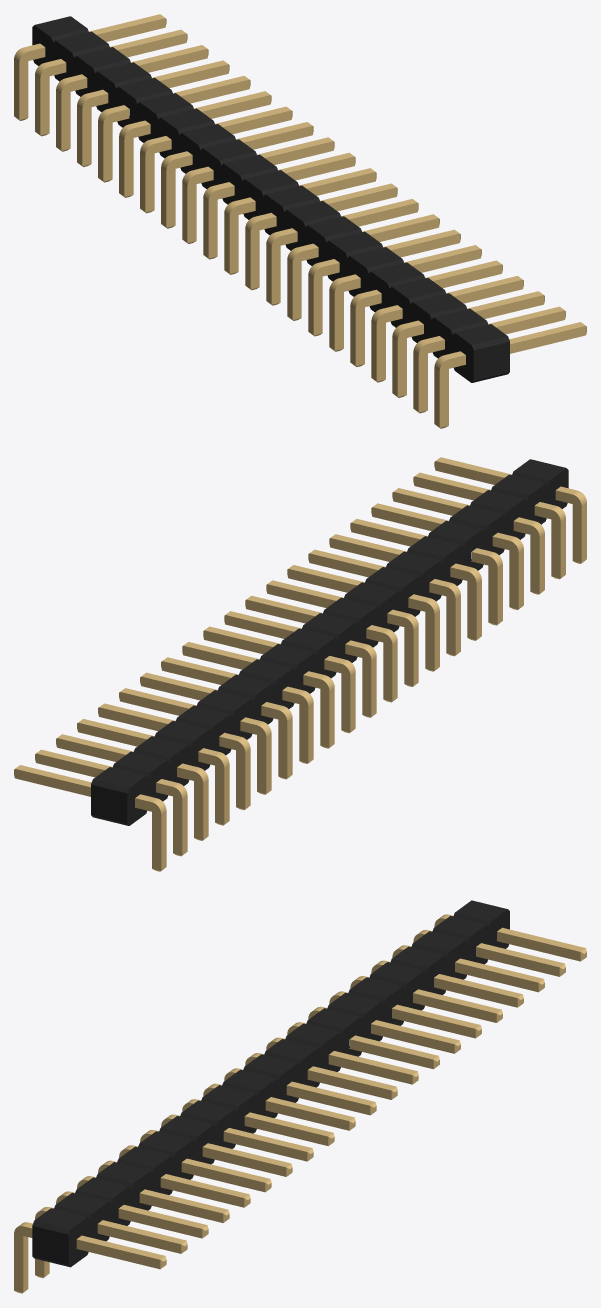
File: kc-pinheader_1x21_p2.54mm_horizontal.glb
3 renders of one model, top to bottom at view 1: azimuth 30°, elevation 25°; view 2: azimuth 150°, elevation 25°; view 3: azimuth 330°, elevation 25°, orthographic.
Parts seen in each view (by area): view 1: 0.75_0.5_0.25_0.9, 0_0_0_0; view 2: 0.75_0.5_0.25_0.9, 0_0_0_0; view 3: 0.75_0.5_0.25_0.9, 0_0_0_0.
Boxes of the visible parts, x1=… form: 0.75_0.5_0.25_0.9: x1=14, y1=14, x2=586, y2=428; 0_0_0_0: x1=32, y1=16, x2=509, y2=382; 0.75_0.5_0.25_0.9: x1=14, y1=457, x2=586, y2=871; 0_0_0_0: x1=91, y1=459, x2=568, y2=825; 0.75_0.5_0.25_0.9: x1=14, y1=914, x2=586, y2=1293; 0_0_0_0: x1=32, y1=900, x2=509, y2=1267.
Size of the model in its own units: 1.04 by 0.554 by 5.33.
